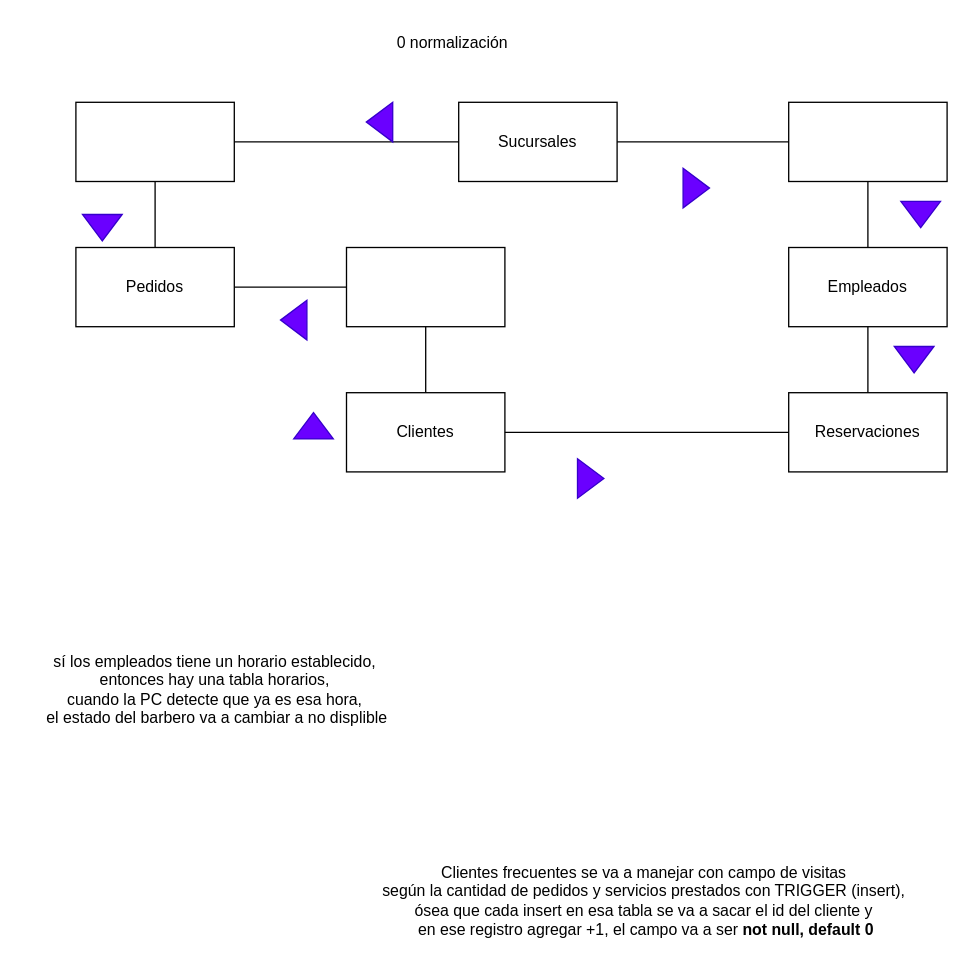
Image size: 970x969. Some labels were removed from this diagram. The centre of each missing label's shape, as x and y in pixels:
Facturas: (425,286)
Horarios: (867,141)
Servicios: (154,141)
